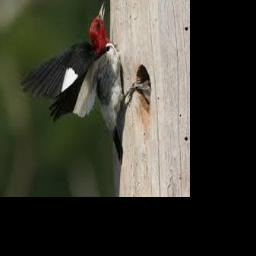Woodpecker: (22, 2, 150, 164)
